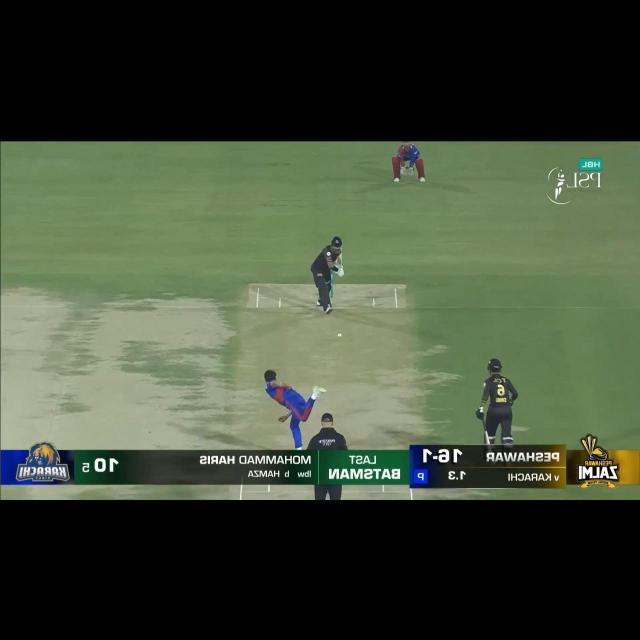bat: (484, 430, 490, 446), (334, 255, 342, 266)
